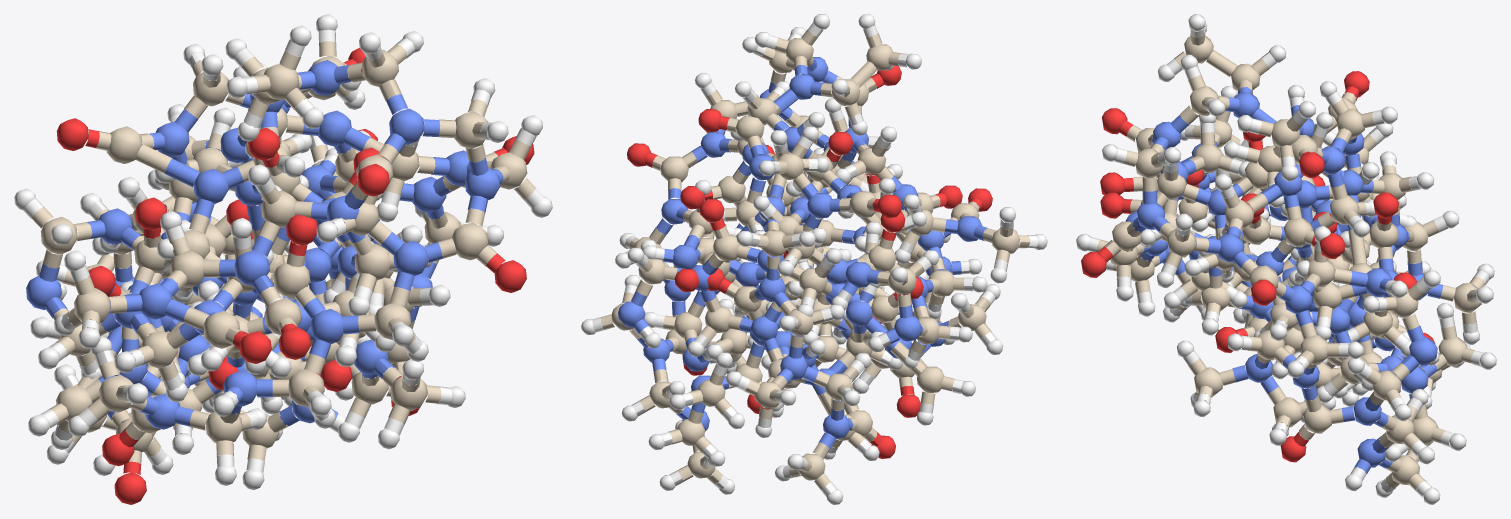
The model's file is Duroplast_Ball.glb.
3 renders of one model, left to right at view 1: azimuth 30°, elevation 25°; view 2: azimuth 150°, elevation 25°; view 3: azimuth 270°, elevation 25°, orthographic. The views are drawn at different scales.
Visible parts, largest first — view 1: VSph008, VSph030, VSph015, VSph016, VSph012, VSph127, VSph029, VSph125, VSph173, VSph001, VSph056, VSph126 (+47 smaller); view 2: VSph082, VSph058, VSph156, VSph005, VSph111, VSph063, VSph050, VSph055, VSph109, VSph112, VSph054, VSph076 (+5 smaller); view 3: VSph055, VSph139, VSph079, VSph167, VSph018, VSph150, VSph144, VSph008, VSph057, VSph027, VSph122, VSph135 (+39 smaller).
Boxes of the visible parts, x1,y1,x2,y2 form: VSph008: (451, 222, 488, 260); VSph030: (106, 126, 142, 163); VSph015: (273, 262, 310, 297); VSph016: (393, 241, 428, 275); VSph012: (310, 309, 343, 344); VSph127: (234, 250, 269, 285); VSph029: (193, 169, 228, 203); VSph125: (203, 311, 239, 348); VSph173: (389, 108, 424, 144); VSph001: (263, 63, 299, 100); VSph056: (318, 110, 351, 146); VSph126: (139, 283, 172, 319); VSph082: (917, 366, 944, 392); VSph058: (660, 156, 688, 182); VSph156: (868, 245, 896, 271); VSph005: (736, 115, 764, 141); VSph111: (713, 234, 740, 261); VSph063: (894, 316, 921, 341); VSph050: (846, 301, 872, 325); VSph055: (718, 176, 745, 202); VSph109: (871, 295, 898, 322); VSph112: (672, 245, 698, 268); VSph054: (751, 316, 778, 341); VSph076: (705, 306, 732, 332); VSph055: (1284, 217, 1313, 247); VSph139: (1303, 404, 1331, 433); VSph079: (1409, 337, 1437, 365); VSph167: (1438, 337, 1467, 366); VSph018: (1218, 233, 1244, 262); VSph150: (1336, 108, 1364, 138); VSph144: (1273, 397, 1302, 427); VSph008: (1112, 221, 1141, 251); VSph057: (1135, 148, 1163, 178); VSph027: (1271, 119, 1300, 147); VSph122: (1194, 144, 1223, 173); VSph135: (1300, 335, 1327, 364).
Size of the model in its own units: 0.6795 by 0.7303 by 0.612.
